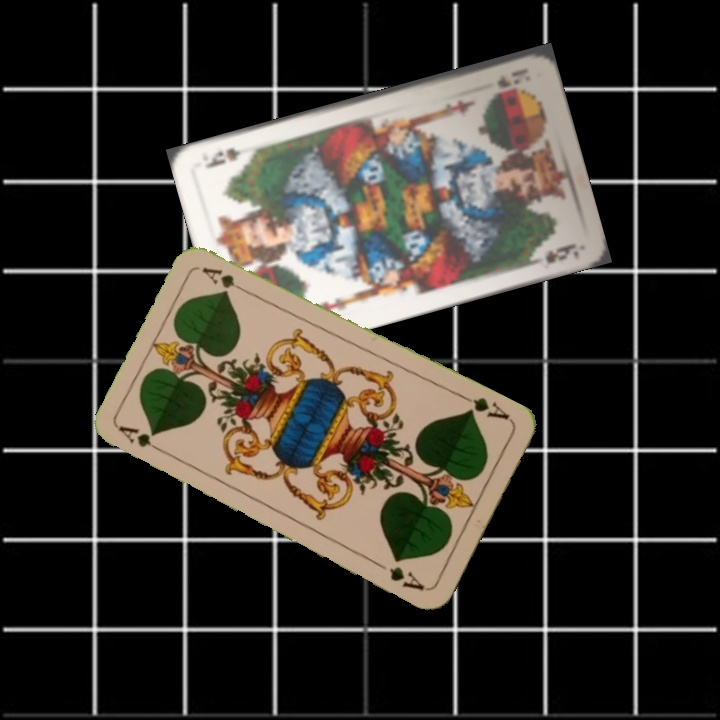GA: (115, 421, 171, 458), (458, 391, 512, 423)
SK: (493, 64, 531, 91)
